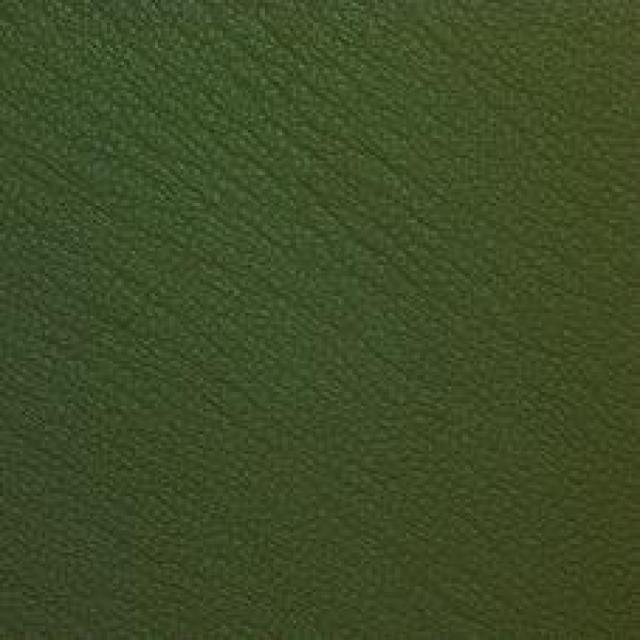Growth Marks: (235, 17, 445, 257)
